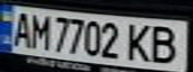0: (81, 18, 103, 57)
2: (100, 19, 124, 60)
7: (48, 14, 72, 53), (66, 16, 84, 55)
A: (6, 9, 36, 47)
B: (145, 22, 187, 65)
K: (124, 20, 157, 63)
M: (27, 11, 51, 51)
